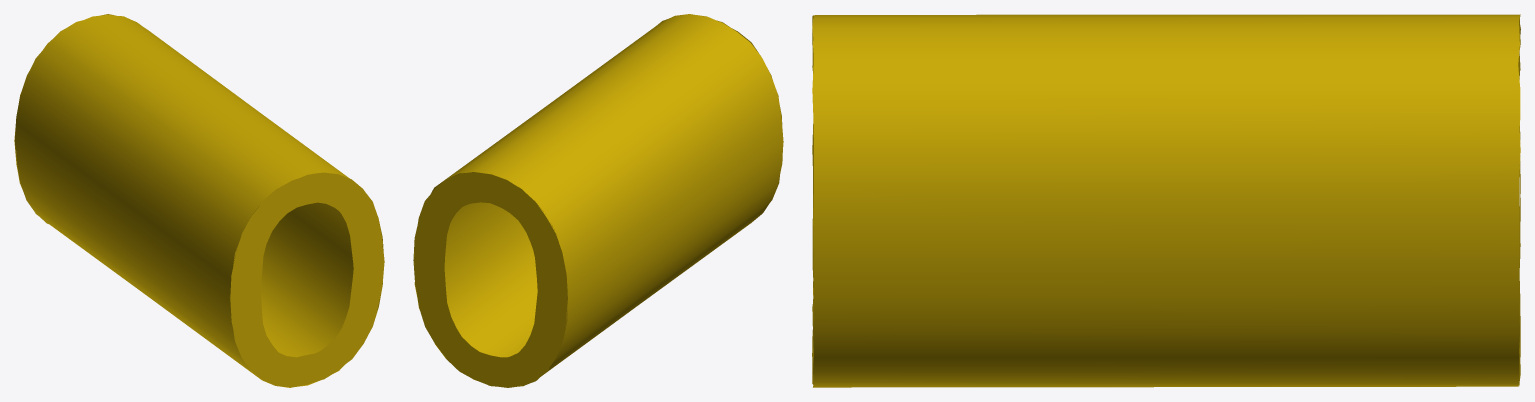
The model's file is original_6.obj.
3 views of the same model, side by side, from view 1: azimuth 30°, elevation 25°; view 2: azimuth 150°, elevation 25°; view 3: azimuth 270°, elevation 25° (orthographic). The views are drawn at different scales.
Parts seen in each view (by area): view 1: #ID37; view 2: #ID37; view 3: #ID37.
Boxes of the visible parts, left/top/right/bottom form: #ID37: left=14, top=14, right=384, bottom=387; #ID37: left=413, top=14, right=783, bottom=387; #ID37: left=812, top=14, right=1520, bottom=387.
Size of the model in its own units: 0.0321 by 0.0419 by 0.0775.
